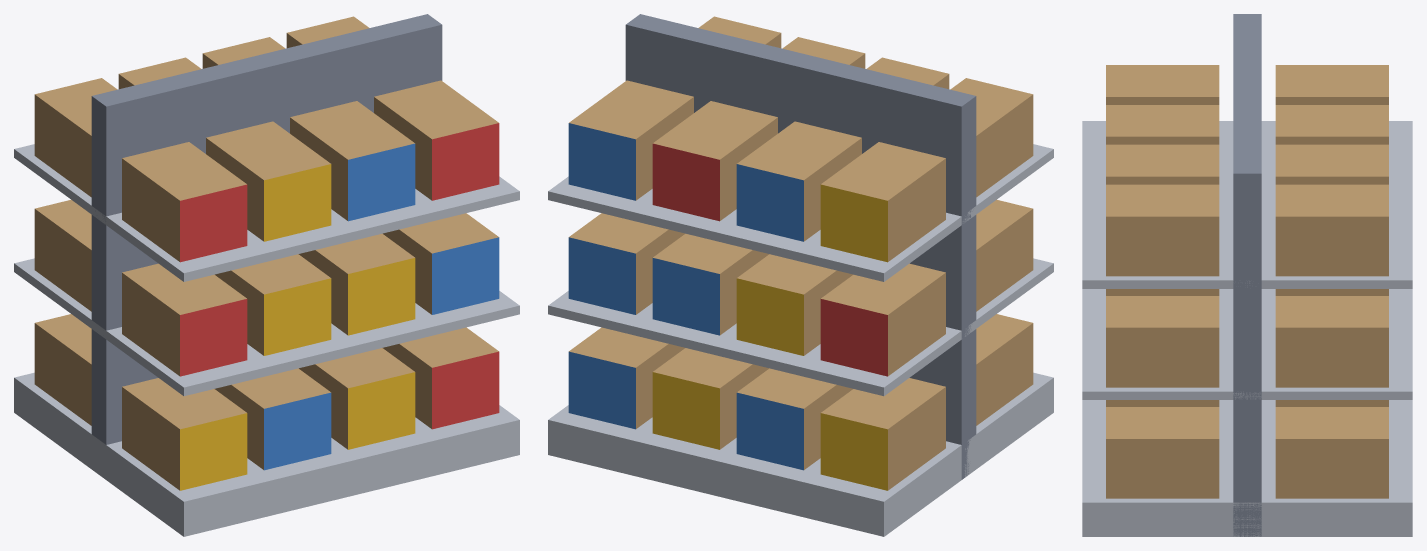
Rendered from shelf-boxes.glb.
3 renders of one model, left to right at view 1: azimuth 30°, elevation 25°; view 2: azimuth 150°, elevation 25°; view 3: azimuth 270°, elevation 25°, orthographic. The views are drawn at different scales.
Visible parts, largest first — view 1: shelf-boxes; view 2: shelf-boxes; view 3: shelf-boxes.
Boxes of the visible parts, left/top/right/bottom form: shelf-boxes: left=14, top=14, right=519, bottom=536; shelf-boxes: left=548, top=14, right=1053, bottom=536; shelf-boxes: left=1082, top=14, right=1412, bottom=536.
Bounding box in the file's own units: 0.8 × 0.85 × 0.7.
Materials: 1 (1 with a texture image).
